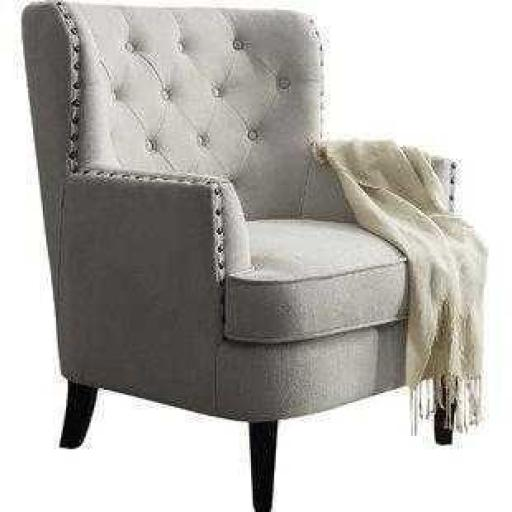chair: (14, 0, 475, 512)
